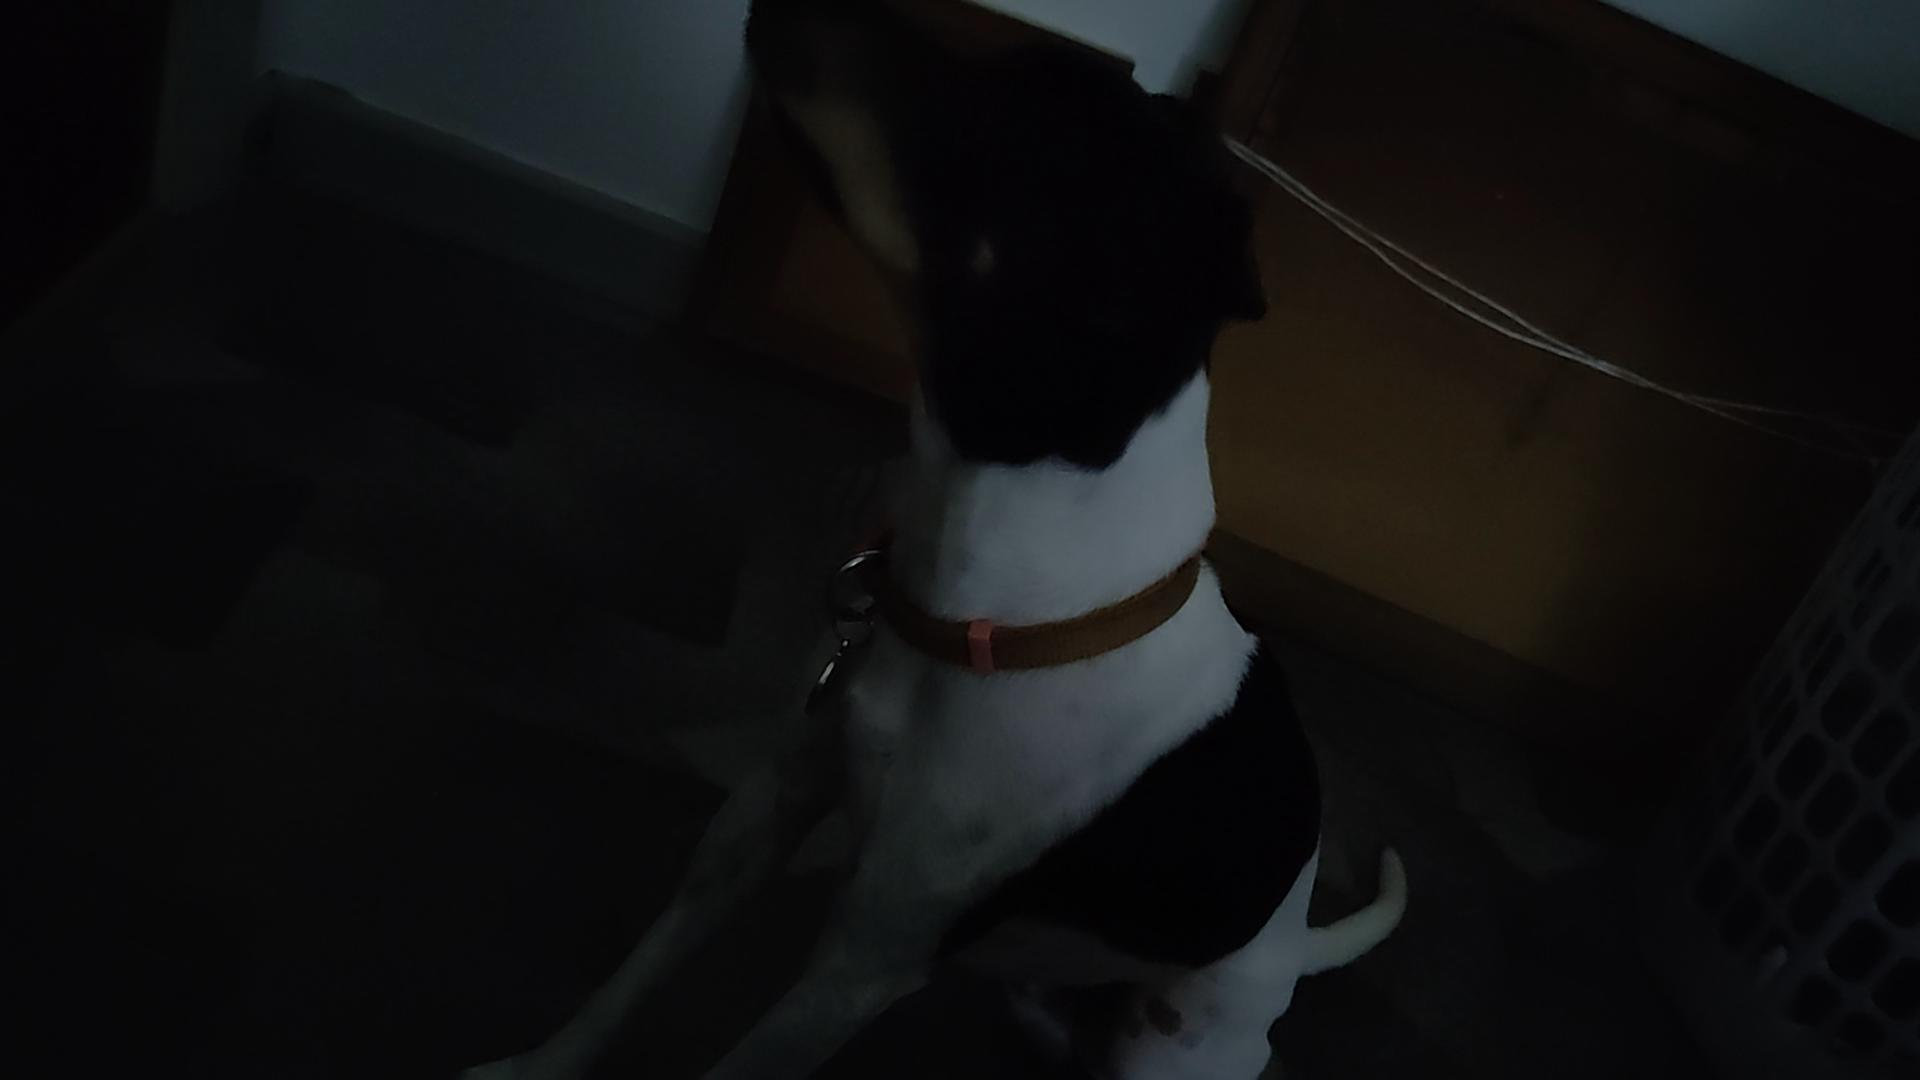Dog: (448, 0, 1411, 1079)
